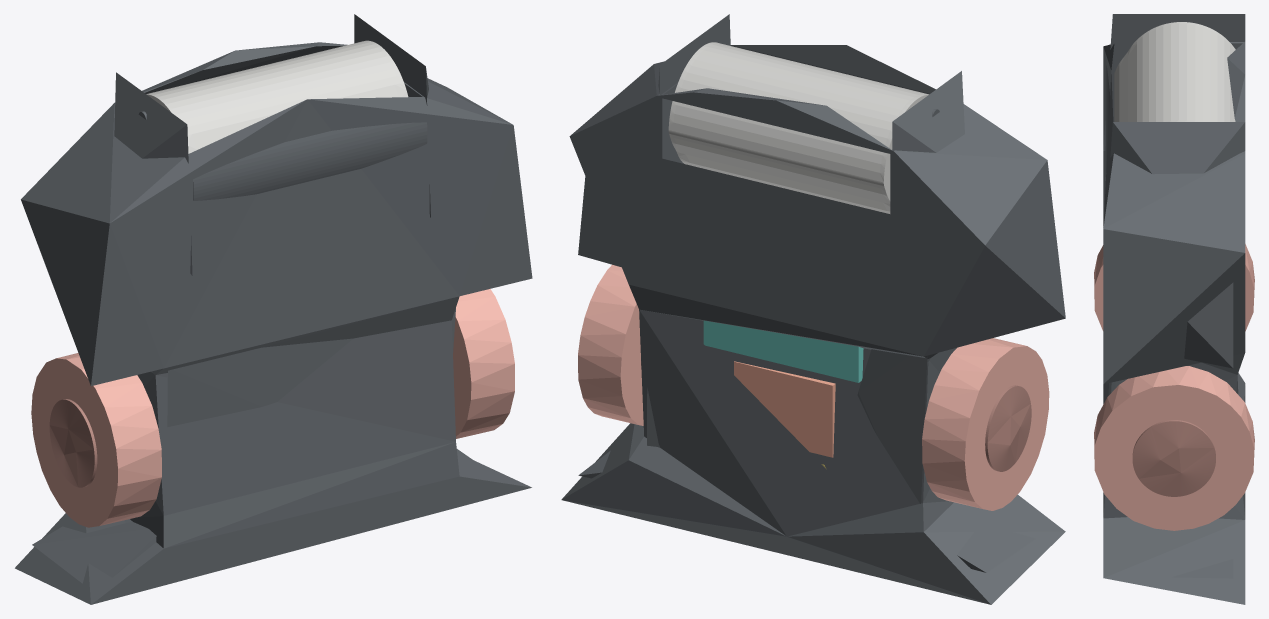
The model's file is unstoppable_force.glb.
3 views of the same model, side by side, from view 1: azimuth 30°, elevation 25°; view 2: azimuth 150°, elevation 25°; view 3: azimuth 270°, elevation 25° (orthographic). The views are drawn at different scales.
Parts seen in each view (by area): view 1: chassis, wheel_r0, weapon, wheel_l0, drum_arm_r, dt_hub_wheel_r0, drum_arm_l; view 2: chassis, weapon, wheel_r0, wheel_l0, el_rx_esc, el_battery, drum_arm_r, dt_hub_wheel_r0, drum_arm_l; view 3: chassis, wheel_l0, weapon, drum_arm_l, dt_hub_wheel_l0, drum_arm_r, wheel_r0.
Boxes of the visible parts, <box> form: chassis: <box>15,42,532,604</box>; wheel_r0: <box>31,353,161,527</box>; weapon: <box>146,40,408,153</box>; wheel_l0: <box>453,289,514,438</box>; drum_arm_r: <box>114,72,192,275</box>; dt_hub_wheel_r0: <box>49,399,97,487</box>; drum_arm_l: <box>354,14,430,217</box>; chassis: <box>561,45,1065,604</box>; weapon: <box>668,42,928,213</box>; wheel_r0: <box>922,338,1049,510</box>; wheel_l0: <box>578,264,643,425</box>; el_rx_esc: <box>734,361,835,457</box>; el_battery: <box>703,320,863,382</box>; drum_arm_r: <box>892,71,964,152</box>; dt_hub_wheel_r0: <box>985,385,1031,471</box>; drum_arm_l: <box>658,14,730,95</box>; chassis: <box>1103,42,1245,604</box>; wheel_l0: <box>1094,366,1254,530</box>; weapon: <box>1114,22,1235,121</box>; drum_arm_l: <box>1110,122,1245,174</box>; dt_hub_wheel_l0: <box>1132,420,1215,496</box>; drum_arm_r: <box>1103,14,1245,150</box>; wheel_r0: <box>1094,244,1254,331</box>.
Size of the model in its own units: 100 by 102 by 34.02.
